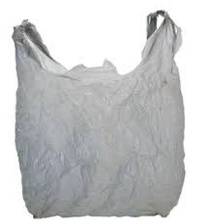plastic_bag: (7, 5, 197, 221)
